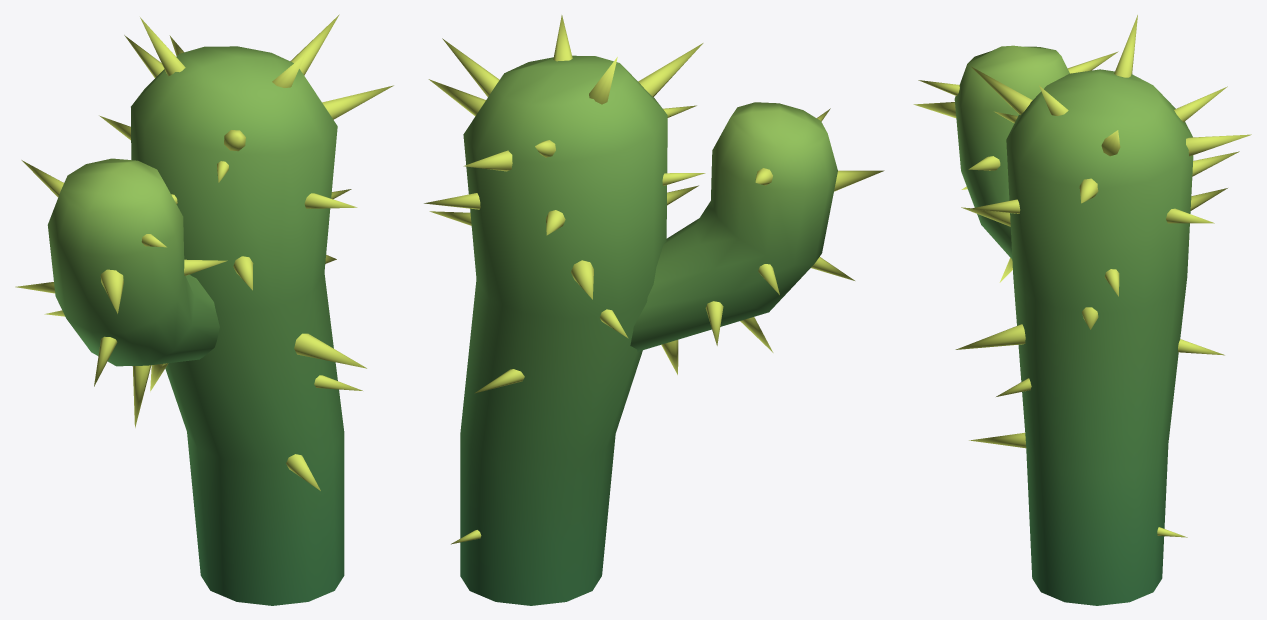
Rendered from platform_kit011.fbx.
The picture shows the model from 3 angles, left to right: view 1: azimuth 30°, elevation 25°; view 2: azimuth 150°, elevation 25°; view 3: azimuth 270°, elevation 25°; orthographic projection. The views are drawn at different scales.
Visible parts, largest first — view 1: platform_kit011; view 2: platform_kit011; view 3: platform_kit011.
Boxes of the visible parts, x1,y1,x2,y2 form: platform_kit011: [15, 14, 393, 605]; platform_kit011: [424, 15, 884, 605]; platform_kit011: [913, 15, 1251, 605].
Bounding box in the file's own units: 120 × 175 × 105.
1 material, 1 textured.
